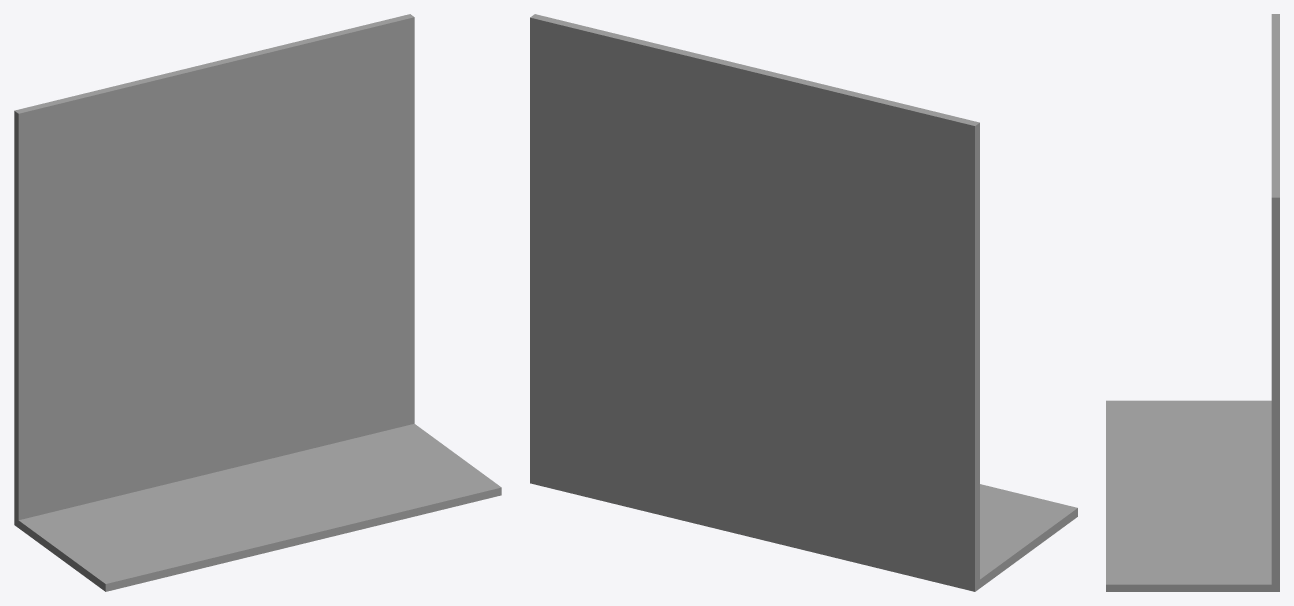
The model's file is meuble_68fb68bae3e16.glb.
3 renders of one model, left to right at view 1: azimuth 30°, elevation 25°; view 2: azimuth 150°, elevation 25°; view 3: azimuth 270°, elevation 25°, orthographic. The views are drawn at different scales.
Visible parts, largest first — view 1: world; view 2: world; view 3: world.
Part boxes in pixels (bbox=[...]): world: bbox=[14, 14, 501, 591]; world: bbox=[530, 14, 1077, 591]; world: bbox=[1106, 14, 1279, 591].
Size of the model in its own units: 1 by 1 by 0.4.
Materials: 1 (1 with a texture image).
